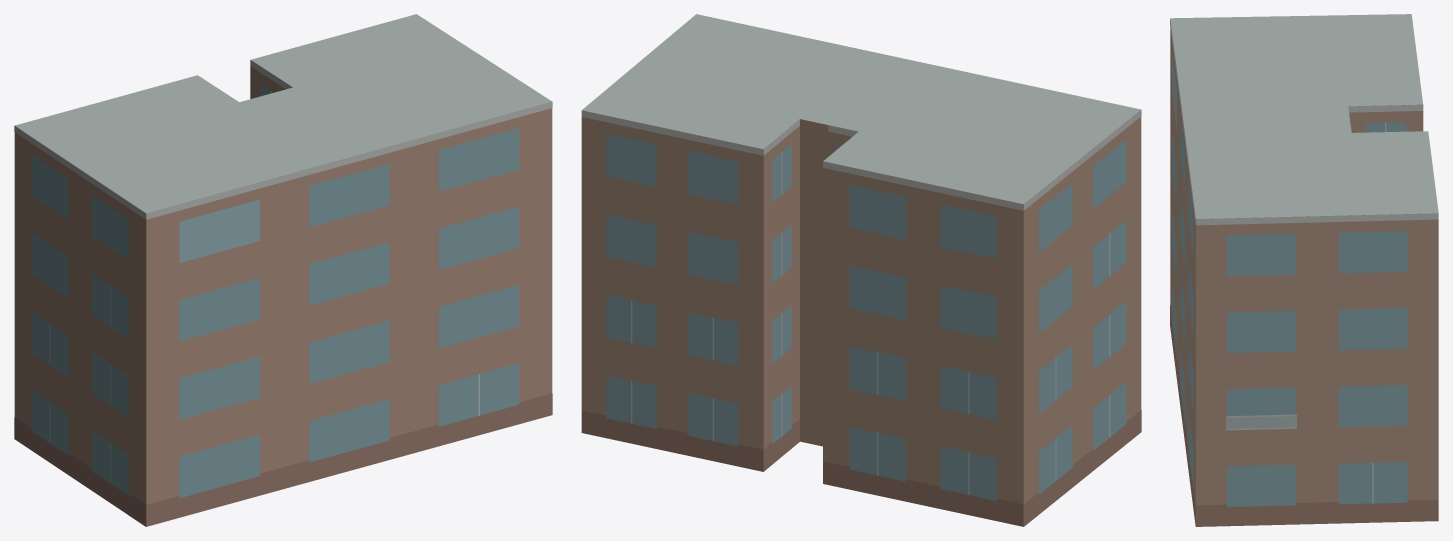
File: survey-upis-32746546.glb
The picture shows the model from 3 angles, left to right: view 1: azimuth 30°, elevation 25°; view 2: azimuth 150°, elevation 25°; view 3: azimuth 270°, elevation 25°; orthographic projection. The views are drawn at different scales.
Parts seen in each view (by area): view 1: survey-upis-32746546.tmp; view 2: survey-upis-32746546.tmp; view 3: survey-upis-32746546.tmp.
Part boxes in pixels (bbox=[...]): survey-upis-32746546.tmp: bbox=[14, 14, 552, 526]; survey-upis-32746546.tmp: bbox=[581, 14, 1141, 526]; survey-upis-32746546.tmp: bbox=[1170, 14, 1438, 526].
Size of the model in its own units: 17.16 by 12 by 9.5.
